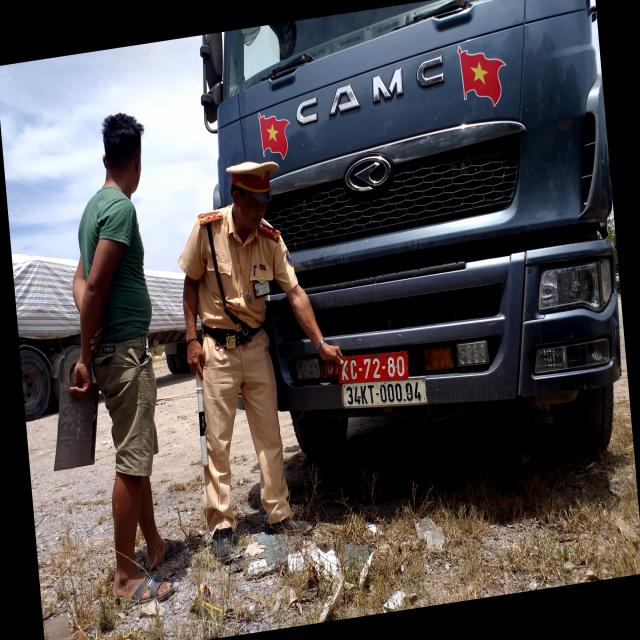bien_do: (332, 345, 414, 378)
bien_trang: (339, 378, 434, 411)
